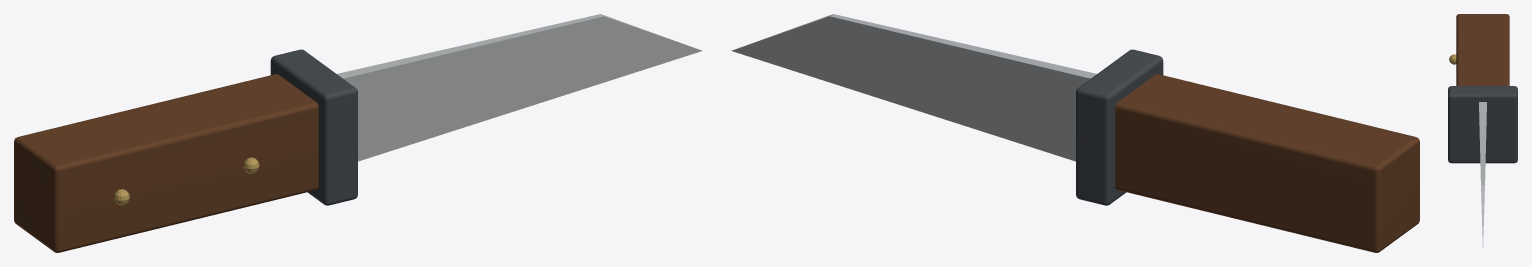
File: period_utility_knife.glb
3 views of the same model, side by side, from view 1: azimuth 30°, elevation 25°; view 2: azimuth 150°, elevation 25°; view 3: azimuth 270°, elevation 25° (orthographic). The views are drawn at different scales.
Visible parts, largest first — view 1: Wood handle, Plain utility blade, Small steel bolster; view 2: Wood handle, Plain utility blade, Small steel bolster; view 3: Small steel bolster, Wood handle, Plain utility blade, Sphere.
Boxes of the visible parts, bbox=[...] form: Wood handle: bbox=[14, 74, 318, 252]; Plain utility blade: bbox=[337, 14, 702, 161]; Small steel bolster: bbox=[270, 49, 357, 205]; Wood handle: bbox=[1115, 74, 1419, 252]; Plain utility blade: bbox=[731, 14, 1096, 161]; Small steel bolster: bbox=[1076, 49, 1163, 205]; Small steel bolster: bbox=[1448, 86, 1517, 163]; Wood handle: bbox=[1456, 14, 1509, 85]; Plain utility blade: bbox=[1479, 102, 1486, 247]; Sphere: bbox=[1449, 54, 1456, 64].
Bounding box in the file's own units: 0.2325 × 0.037 × 0.034.
